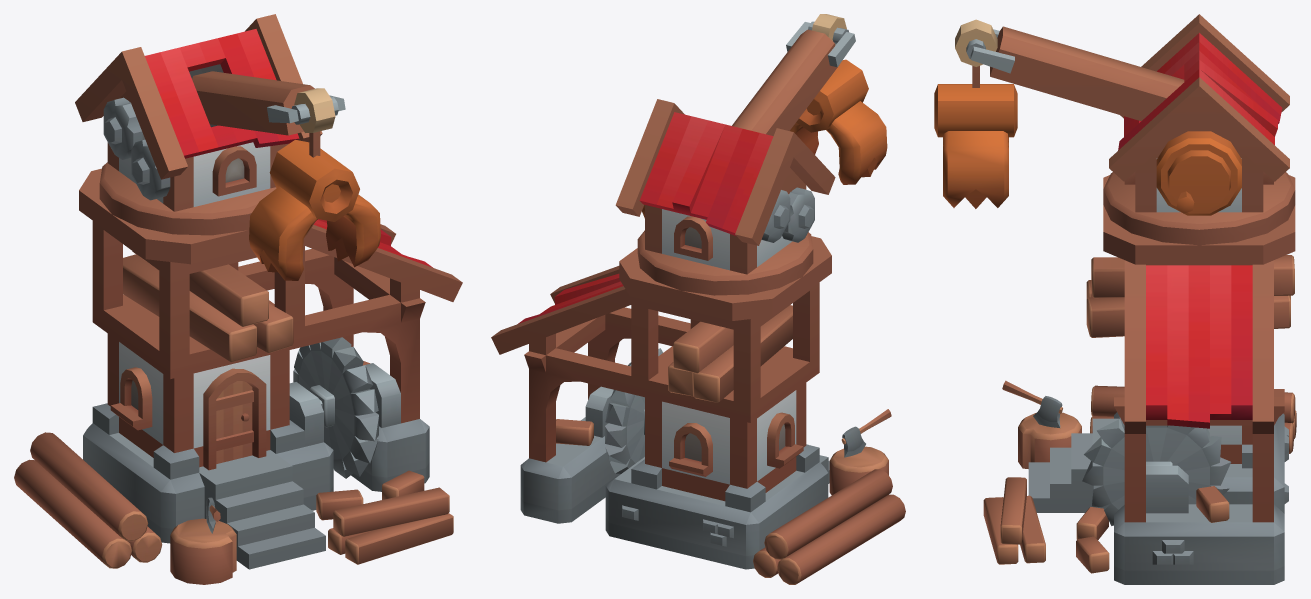
The model's file is kk_lumbermill_v1.glb.
3 renders of one model, left to right at view 1: azimuth 30°, elevation 25°; view 2: azimuth 150°, elevation 25°; view 3: azimuth 270°, elevation 25°, orthographic. The views are drawn at different scales.
Parts seen in each view (by area): view 1: building_lumbermill_red; view 2: building_lumbermill_red; view 3: building_lumbermill_red.
Boxes of the visible parts, x1,y1,x2,y2 form: building_lumbermill_red: (14, 14, 462, 584); building_lumbermill_red: (491, 14, 905, 584); building_lumbermill_red: (934, 14, 1296, 584).
Size of the model in its own units: 1.37 by 1.71 by 1.19.
Materials: 1 (1 with a texture image).
